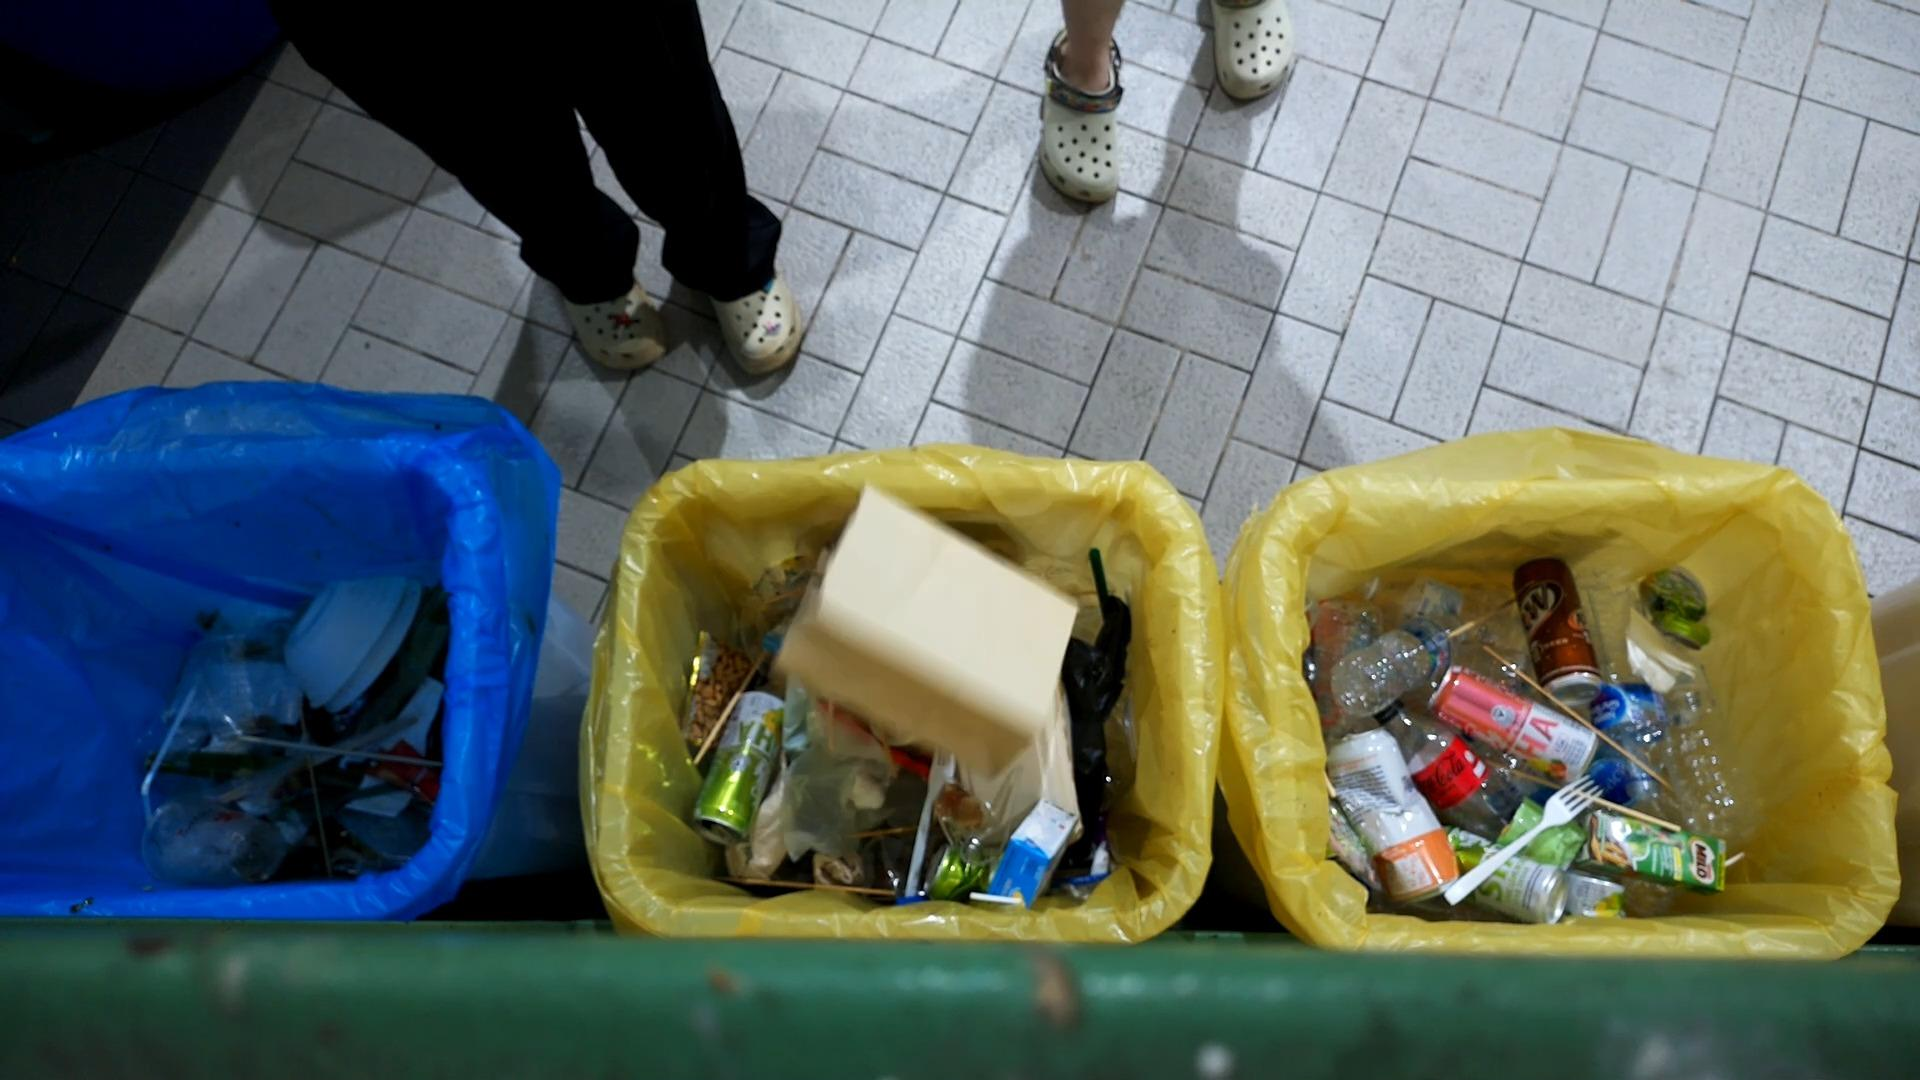can: (1320, 727, 1462, 903), (1432, 669, 1605, 793), (686, 684, 786, 847), (1510, 554, 1605, 709), (1444, 823, 1572, 922), (916, 835, 1010, 913), (1638, 564, 1720, 649)
food container: (280, 571, 426, 719)
milk carton: (1567, 806, 1733, 903), (977, 794, 1085, 909)
paper bag: (774, 477, 1092, 779)
plastic bag: (777, 708, 864, 856), (1323, 807, 1379, 887)
plastic bottle: (1371, 699, 1513, 839), (1329, 611, 1481, 719), (1588, 658, 1679, 829), (1654, 669, 1739, 849)
plastic cutlery: (1441, 771, 1604, 907), (907, 733, 960, 902)
snack packaging: (675, 625, 761, 748)
sticks: (1484, 645, 1680, 793), (687, 641, 774, 769), (247, 732, 443, 777), (1565, 785, 1687, 837), (840, 822, 931, 836)
straw: (131, 670, 204, 824)
tissue paper: (1623, 604, 1695, 694), (812, 848, 877, 898), (235, 795, 281, 820), (273, 814, 314, 841)
